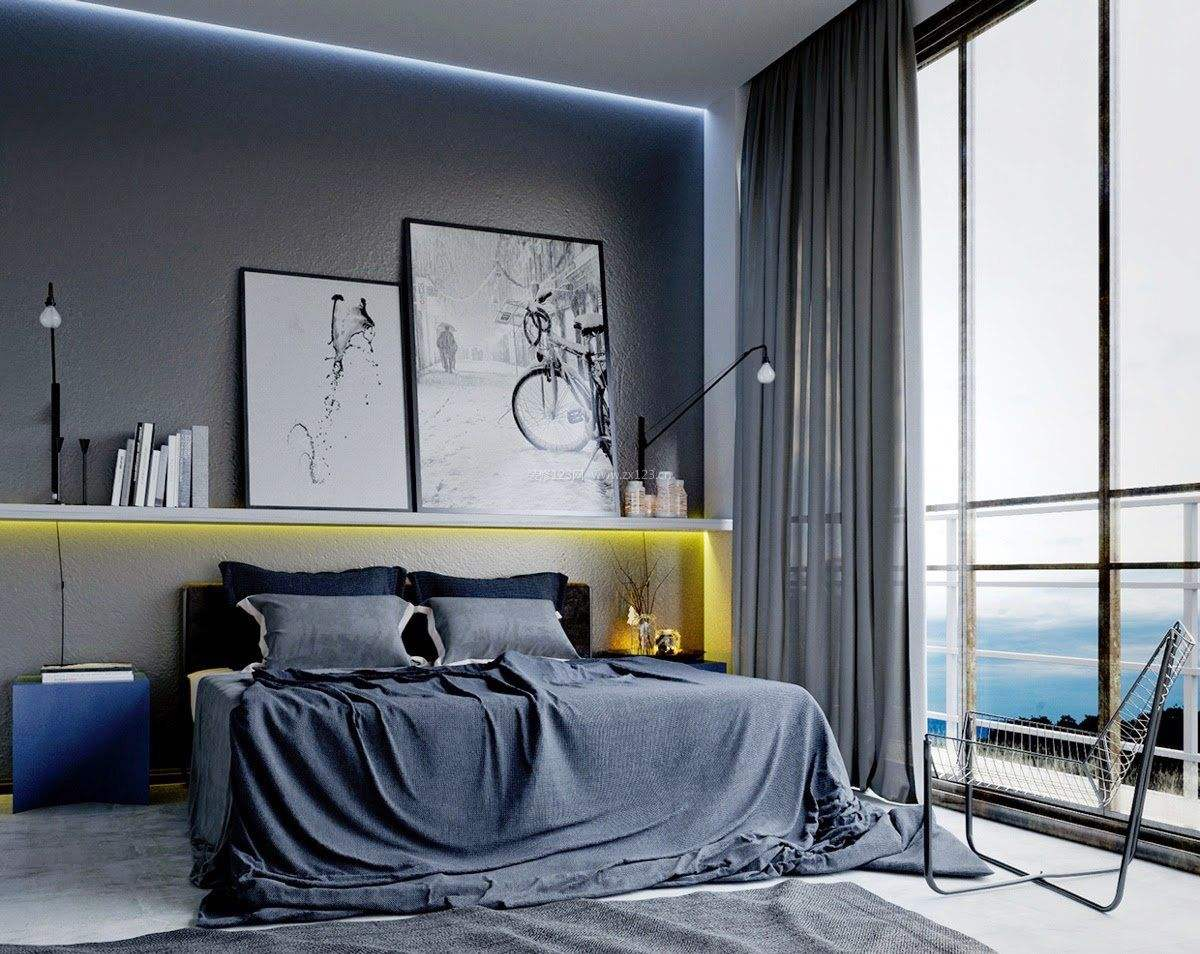床: (154, 644, 842, 893)
枕头: (222, 571, 579, 685)
灯: (619, 333, 791, 450), (32, 275, 72, 514)
